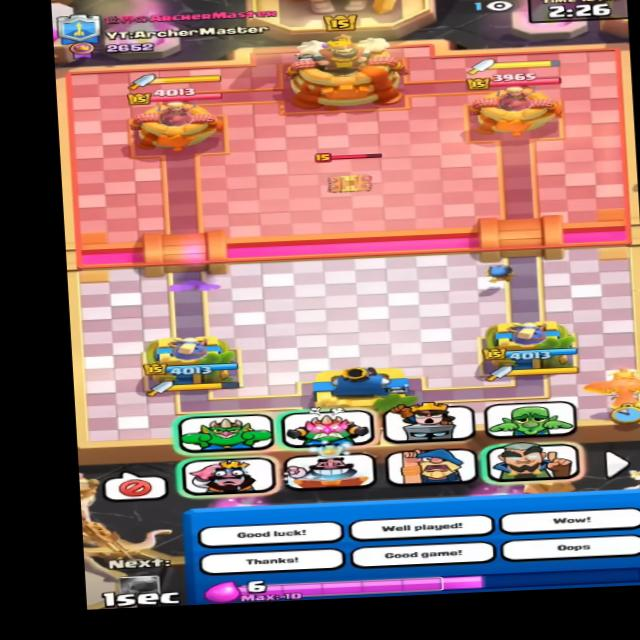Teslahidden: (305, 144, 394, 196)
